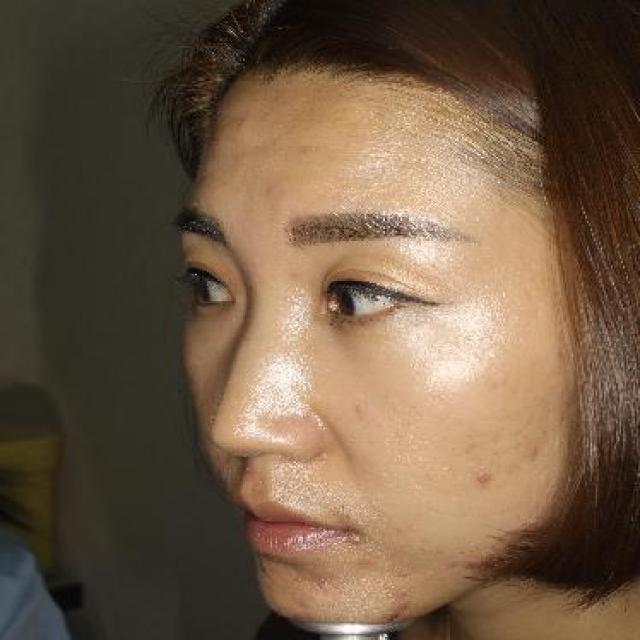Acne: (471, 460, 498, 495), (518, 438, 546, 468)
Whiteheads: (344, 529, 373, 549)
